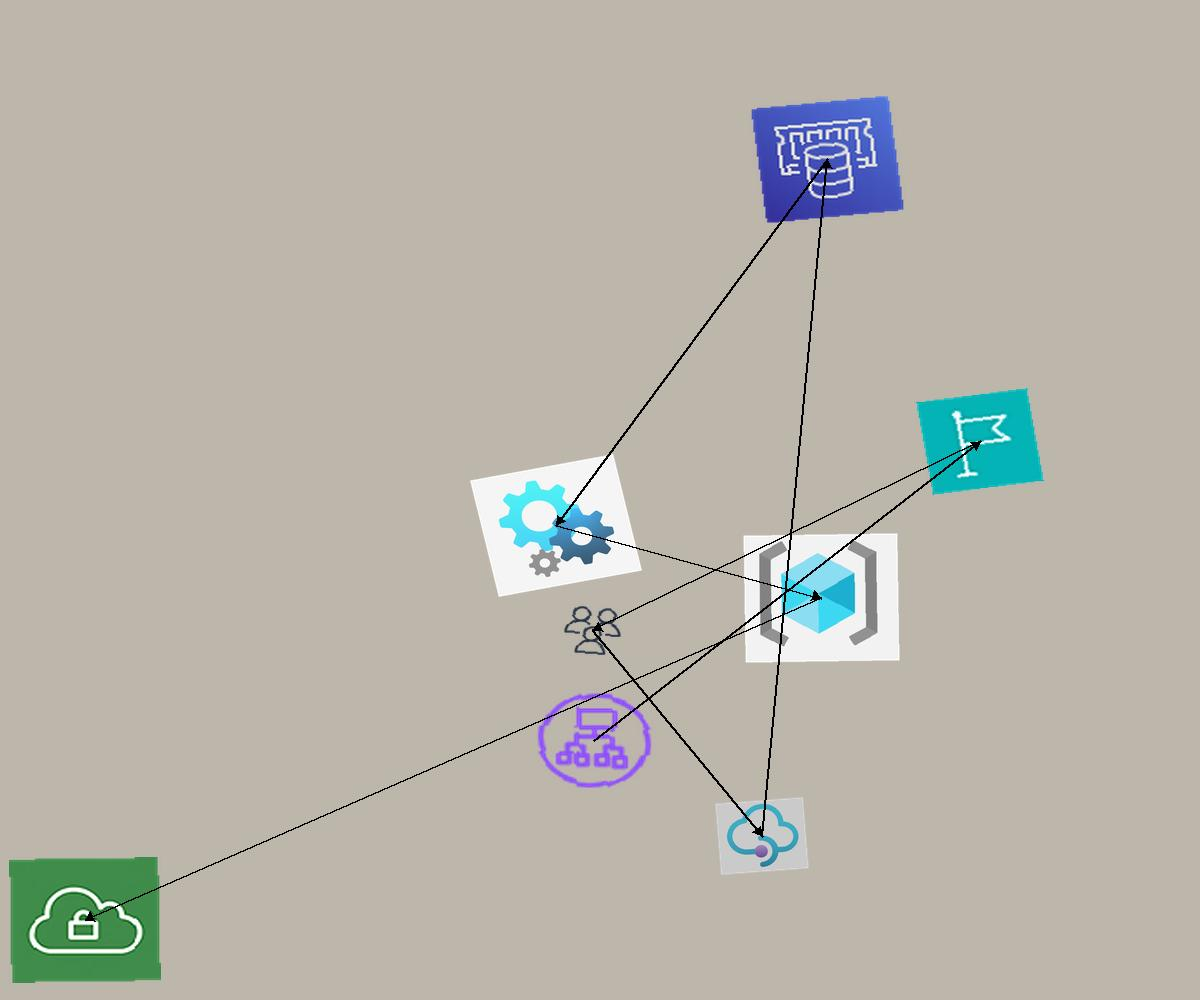AWS-ElastiCache: (750, 95, 905, 224)
AWS-Private_vpc: (9, 857, 161, 983)
AWS-Region: (916, 388, 1044, 495)
AWS-Res_Elastic-Load-Balancing_Application-Load-Balancer: (528, 685, 661, 796)
AWS-Res_Users: (558, 602, 627, 659)
Azure_api: (470, 454, 642, 597)
Azure_api_gateway: (715, 797, 809, 875)
Azure_resource_group: (743, 533, 900, 663)
